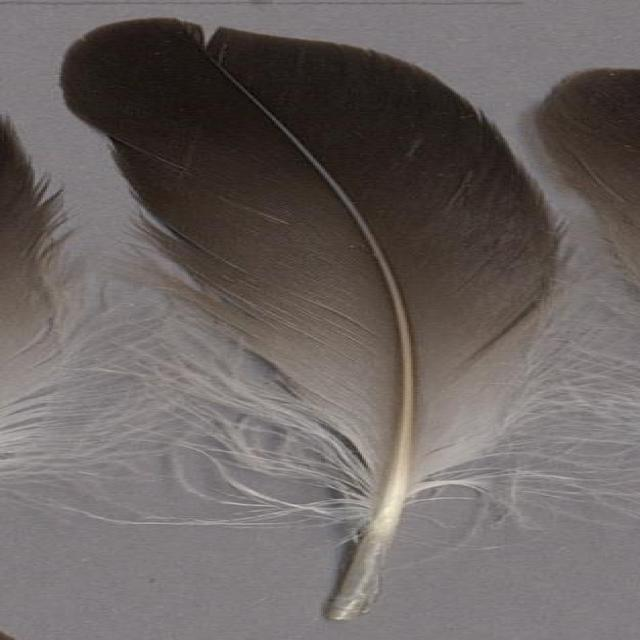feather: (51, 18, 640, 622)
